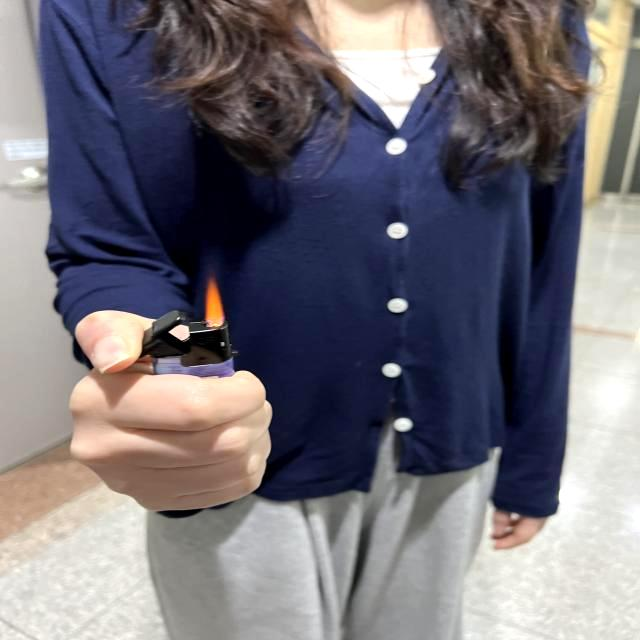fire: (203, 272, 227, 330)
